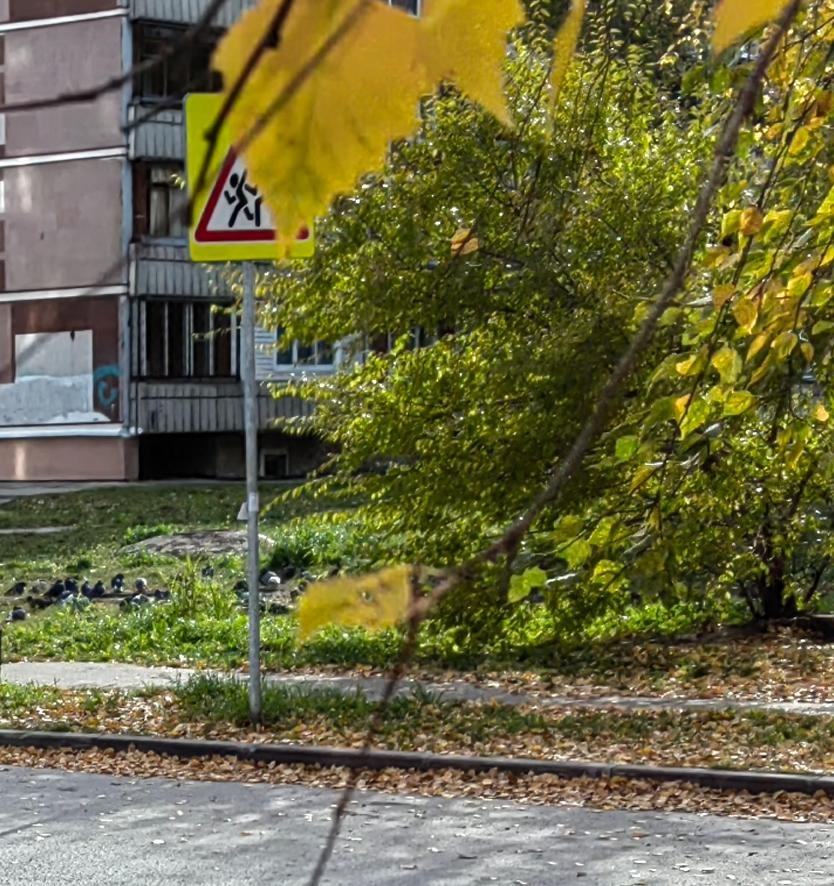obstructed_road_sign: (184, 93, 314, 262)
